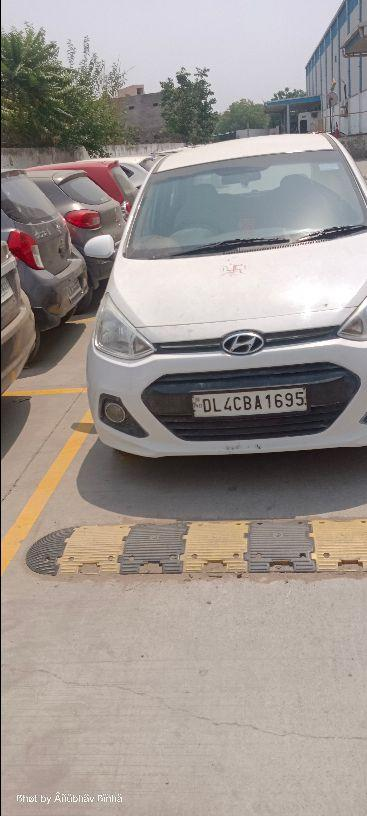license_plate: (189, 384, 309, 418)
